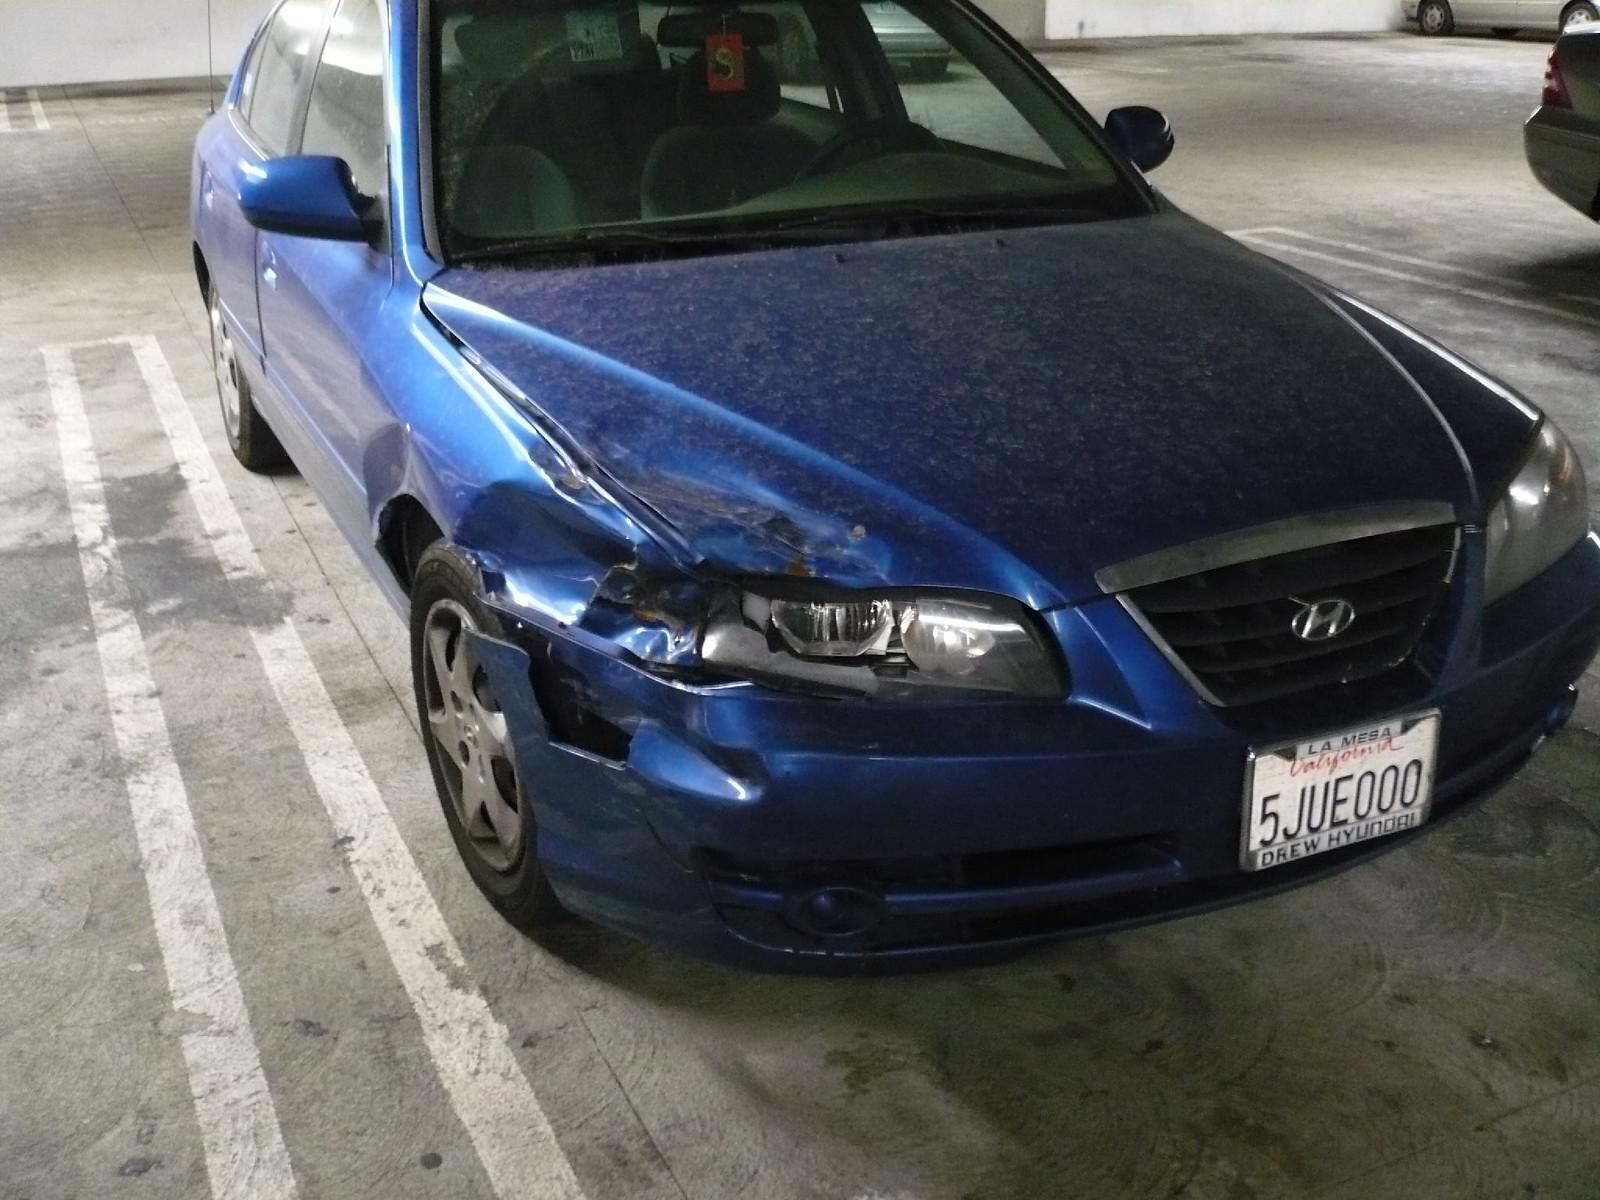bonnet-dent: (522, 239, 1037, 592)
fender-dent: (325, 316, 637, 650)
front-bumper-dent: (551, 653, 1104, 939)
